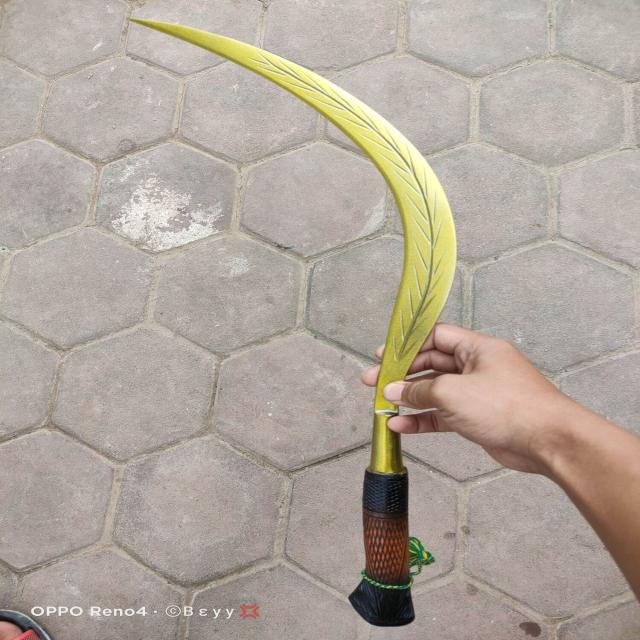Celurit: (123, 12, 462, 628)
